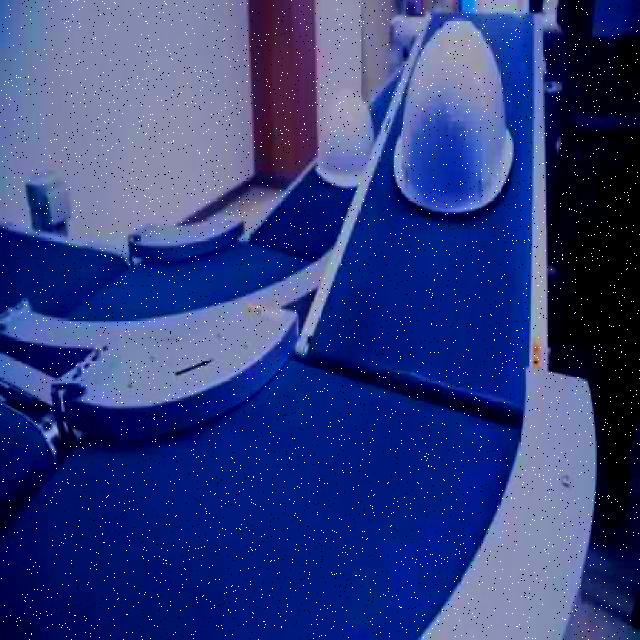Helmet: (393, 19, 515, 218), (312, 88, 376, 190)
